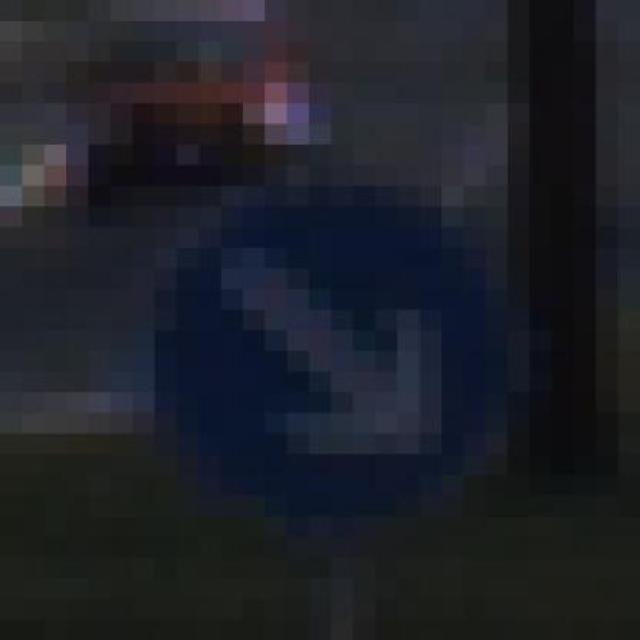Keep-Right: (155, 166, 530, 516)
